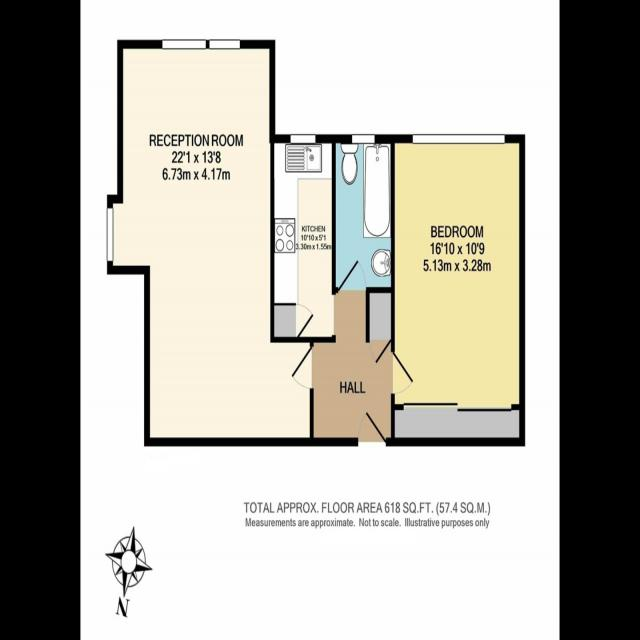DOOR: (356, 409, 387, 447), (337, 257, 367, 294), (290, 345, 314, 390), (391, 351, 415, 395)
ROOM: (107, 39, 314, 447), (391, 134, 525, 447), (269, 134, 336, 343)
WINDOW: (411, 133, 506, 145), (161, 39, 206, 50), (106, 207, 114, 262), (209, 39, 241, 50), (290, 133, 316, 145), (351, 133, 376, 145)
